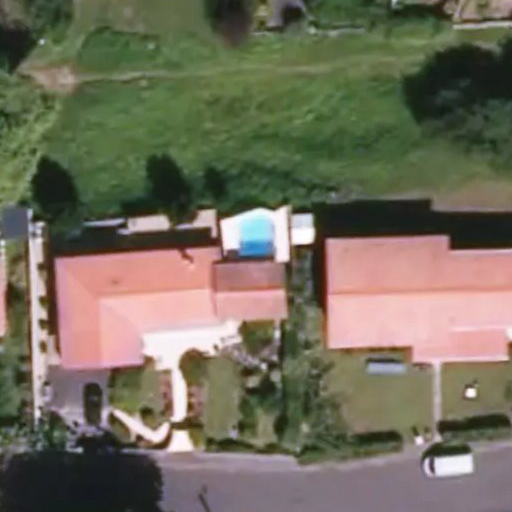pool: (237, 219, 274, 265)
